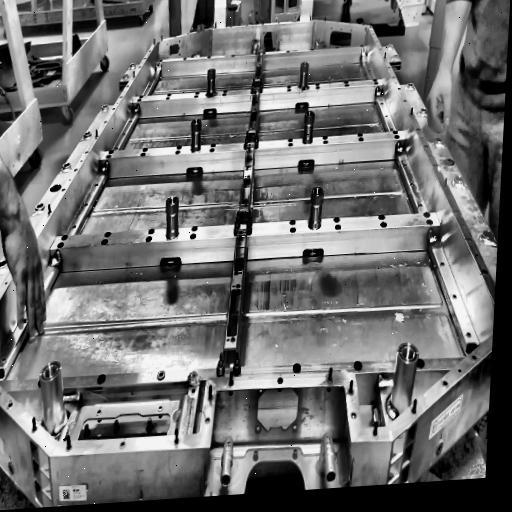b_casing: (0, 19, 498, 457)
